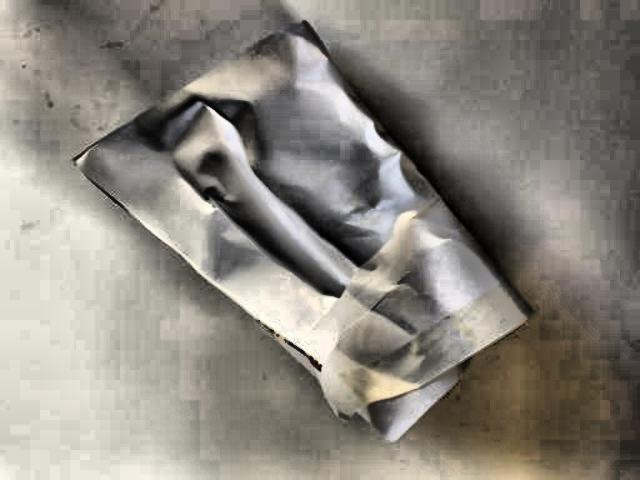Paper: (72, 18, 537, 446)
